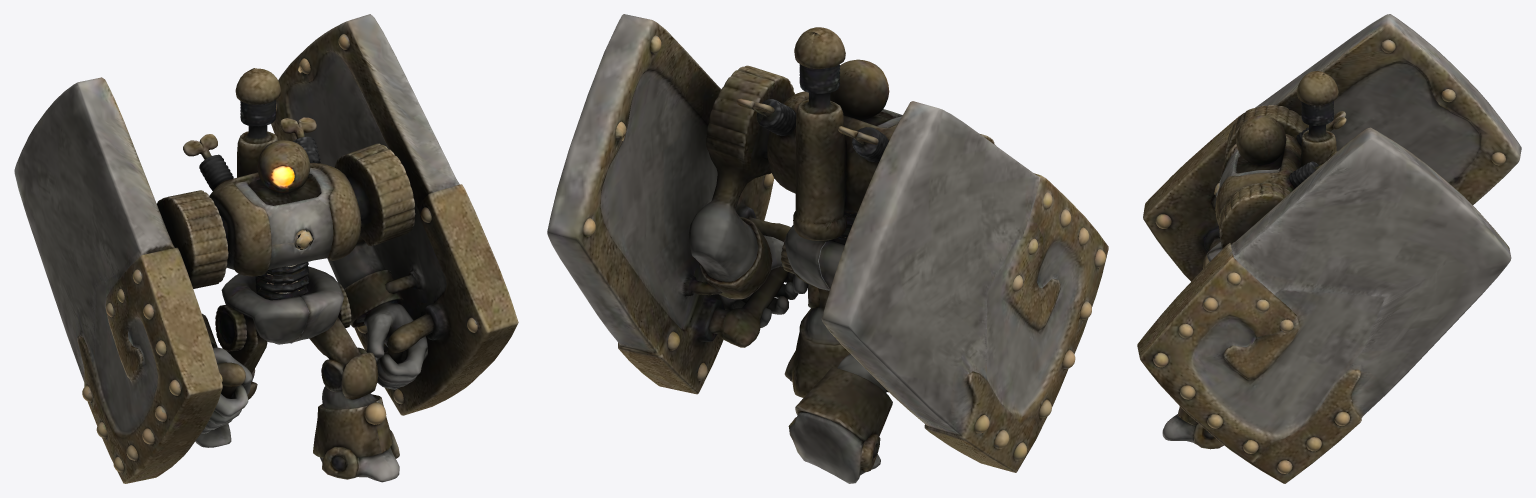
Rendered from MZ4250 - Stone Defender_Concrete.glb.
3 views of the same model, side by side, from view 1: azimuth 30°, elevation 25°; view 2: azimuth 150°, elevation 25°; view 3: azimuth 270°, elevation 25° (orthographic). The views are drawn at different scales.
Parts seen in each view (by area): view 1: Stone Defender.001; view 2: Stone Defender.001; view 3: Stone Defender.001.
Boxes of the visible parts, <box> form: Stone Defender.001: <box>14,14,518,483</box>; Stone Defender.001: <box>547,14,1108,483</box>; Stone Defender.001: <box>1137,14,1521,483</box>.
Size of the model in its own units: 0.6484 by 0.6623 by 0.6706.
Materials: 1 (1 with a texture image).
